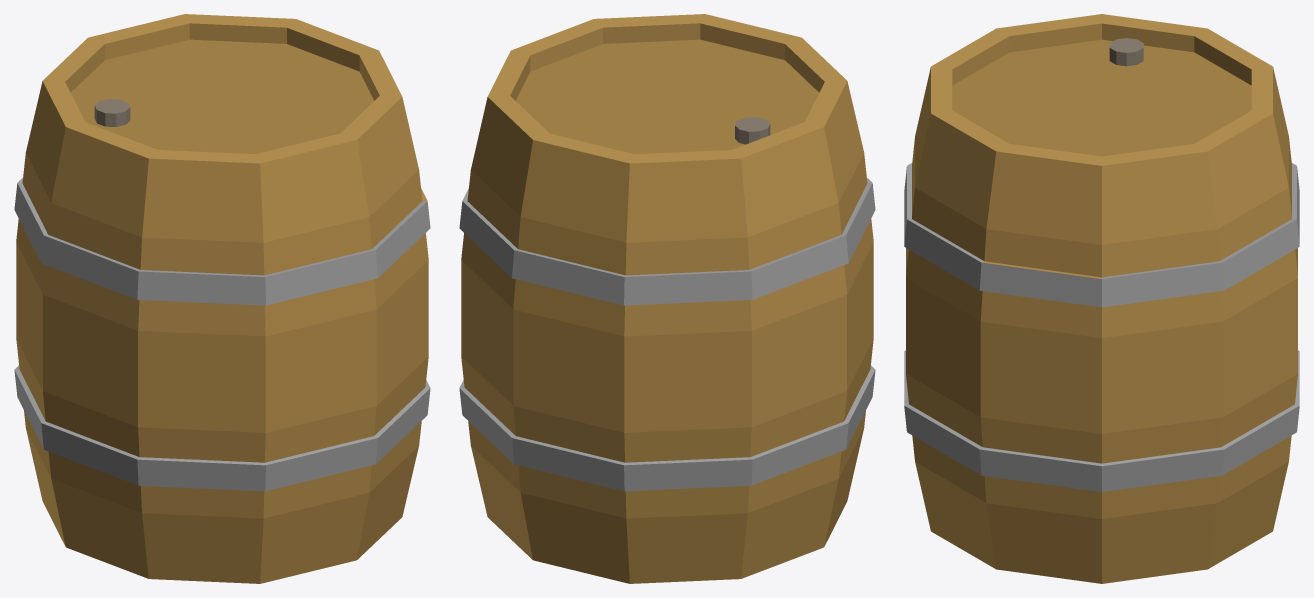
The model's file is barrel.fbx.
3 renders of one model, left to right at view 1: azimuth 30°, elevation 25°; view 2: azimuth 150°, elevation 25°; view 3: azimuth 270°, elevation 25°, orthographic.
Visible parts, largest first — view 1: Cylinder_2; view 2: Cylinder_2; view 3: Cylinder_2.
Boxes of the visible parts, <box> form: Cylinder_2: <box>14,14,430,583</box>; Cylinder_2: <box>459,14,875,583</box>; Cylinder_2: <box>904,14,1299,583</box>.
Size of the model in its own units: 93.22 by 103 by 88.66.
